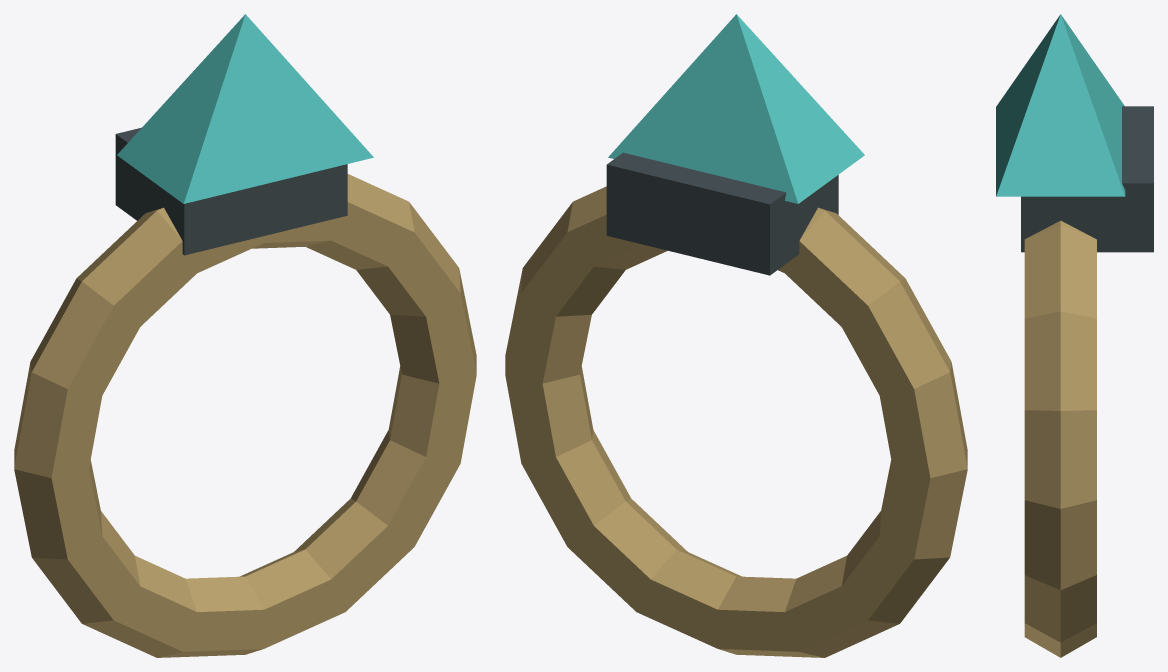
File: Equip_RingIntellect.fbx
3 renders of one model, left to right at view 1: azimuth 30°, elevation 25°; view 2: azimuth 150°, elevation 25°; view 3: azimuth 270°, elevation 25°, orthographic. The views are drawn at different scales.
Parts seen in each view (by area): view 1: Equip_RingIntellect; view 2: Equip_RingIntellect; view 3: Equip_RingIntellect.
Boxes of the visible parts, box(x1,y1,x2,y2) form: Equip_RingIntellect: box(14, 14, 476, 657); Equip_RingIntellect: box(505, 14, 967, 657); Equip_RingIntellect: box(996, 14, 1153, 657).
Size of the model in its own units: 0.136 by 0.18 by 0.0415.
